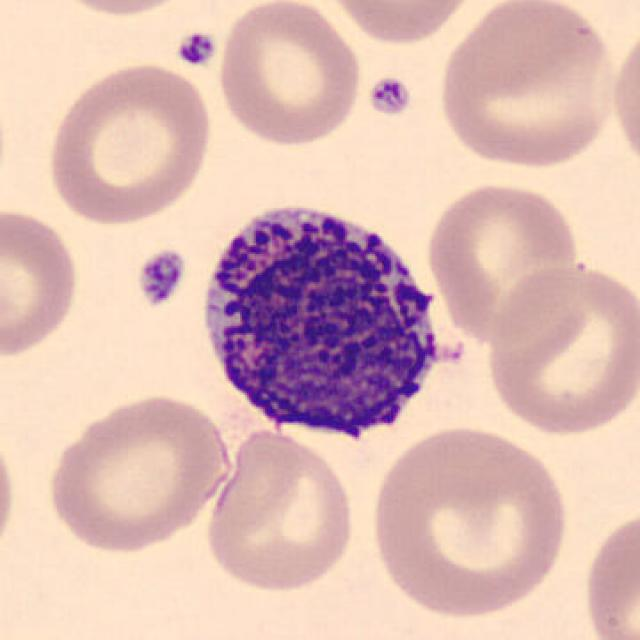Basophil: (188, 185, 468, 455)
Platelets: (134, 247, 188, 310), (364, 72, 414, 118), (172, 28, 220, 71)
RBC: (364, 420, 576, 624), (41, 388, 235, 557), (432, 0, 620, 173), (43, 58, 217, 228), (480, 257, 638, 439), (201, 421, 361, 598), (421, 178, 583, 349), (214, 0, 366, 148), (0, 203, 84, 363), (580, 502, 638, 640), (318, 0, 484, 48), (606, 19, 640, 180), (0, 417, 21, 576), (37, 0, 200, 19)
